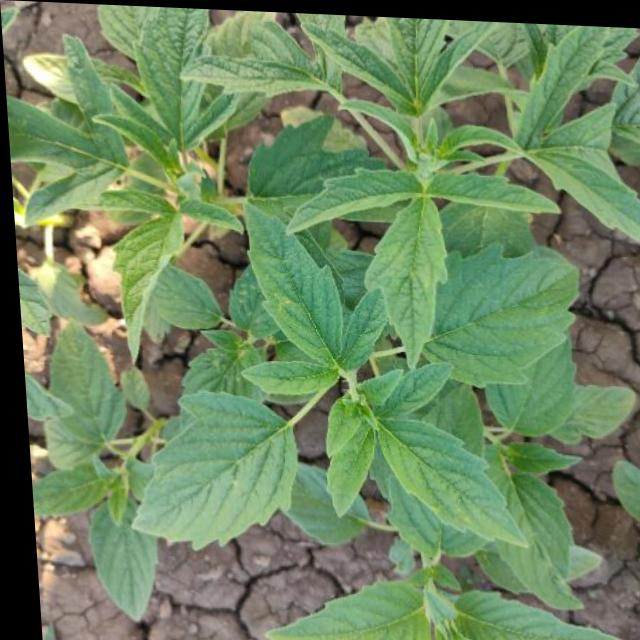crop: (8, 7, 640, 614)
